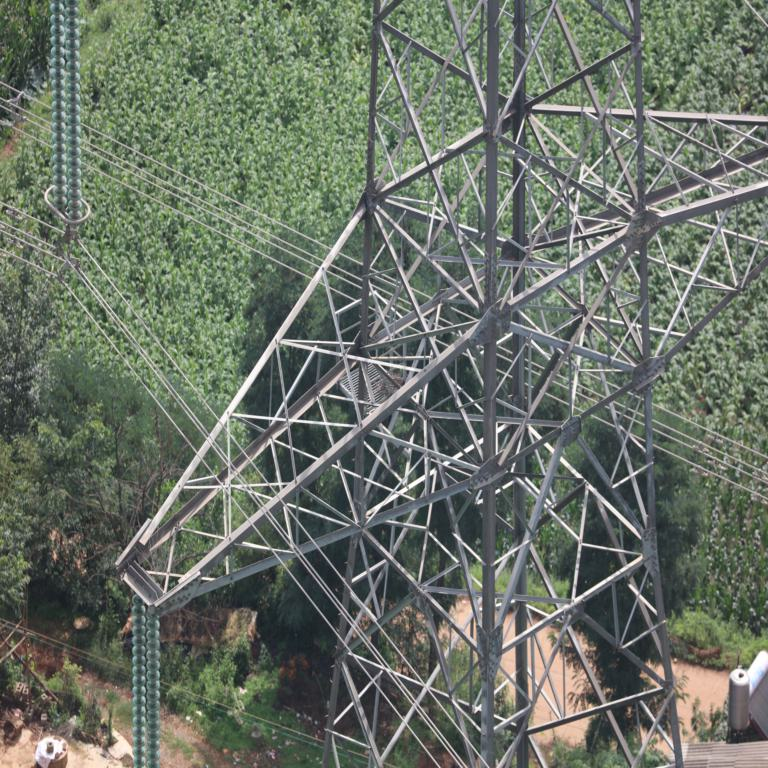nest: (385, 373, 404, 392)
